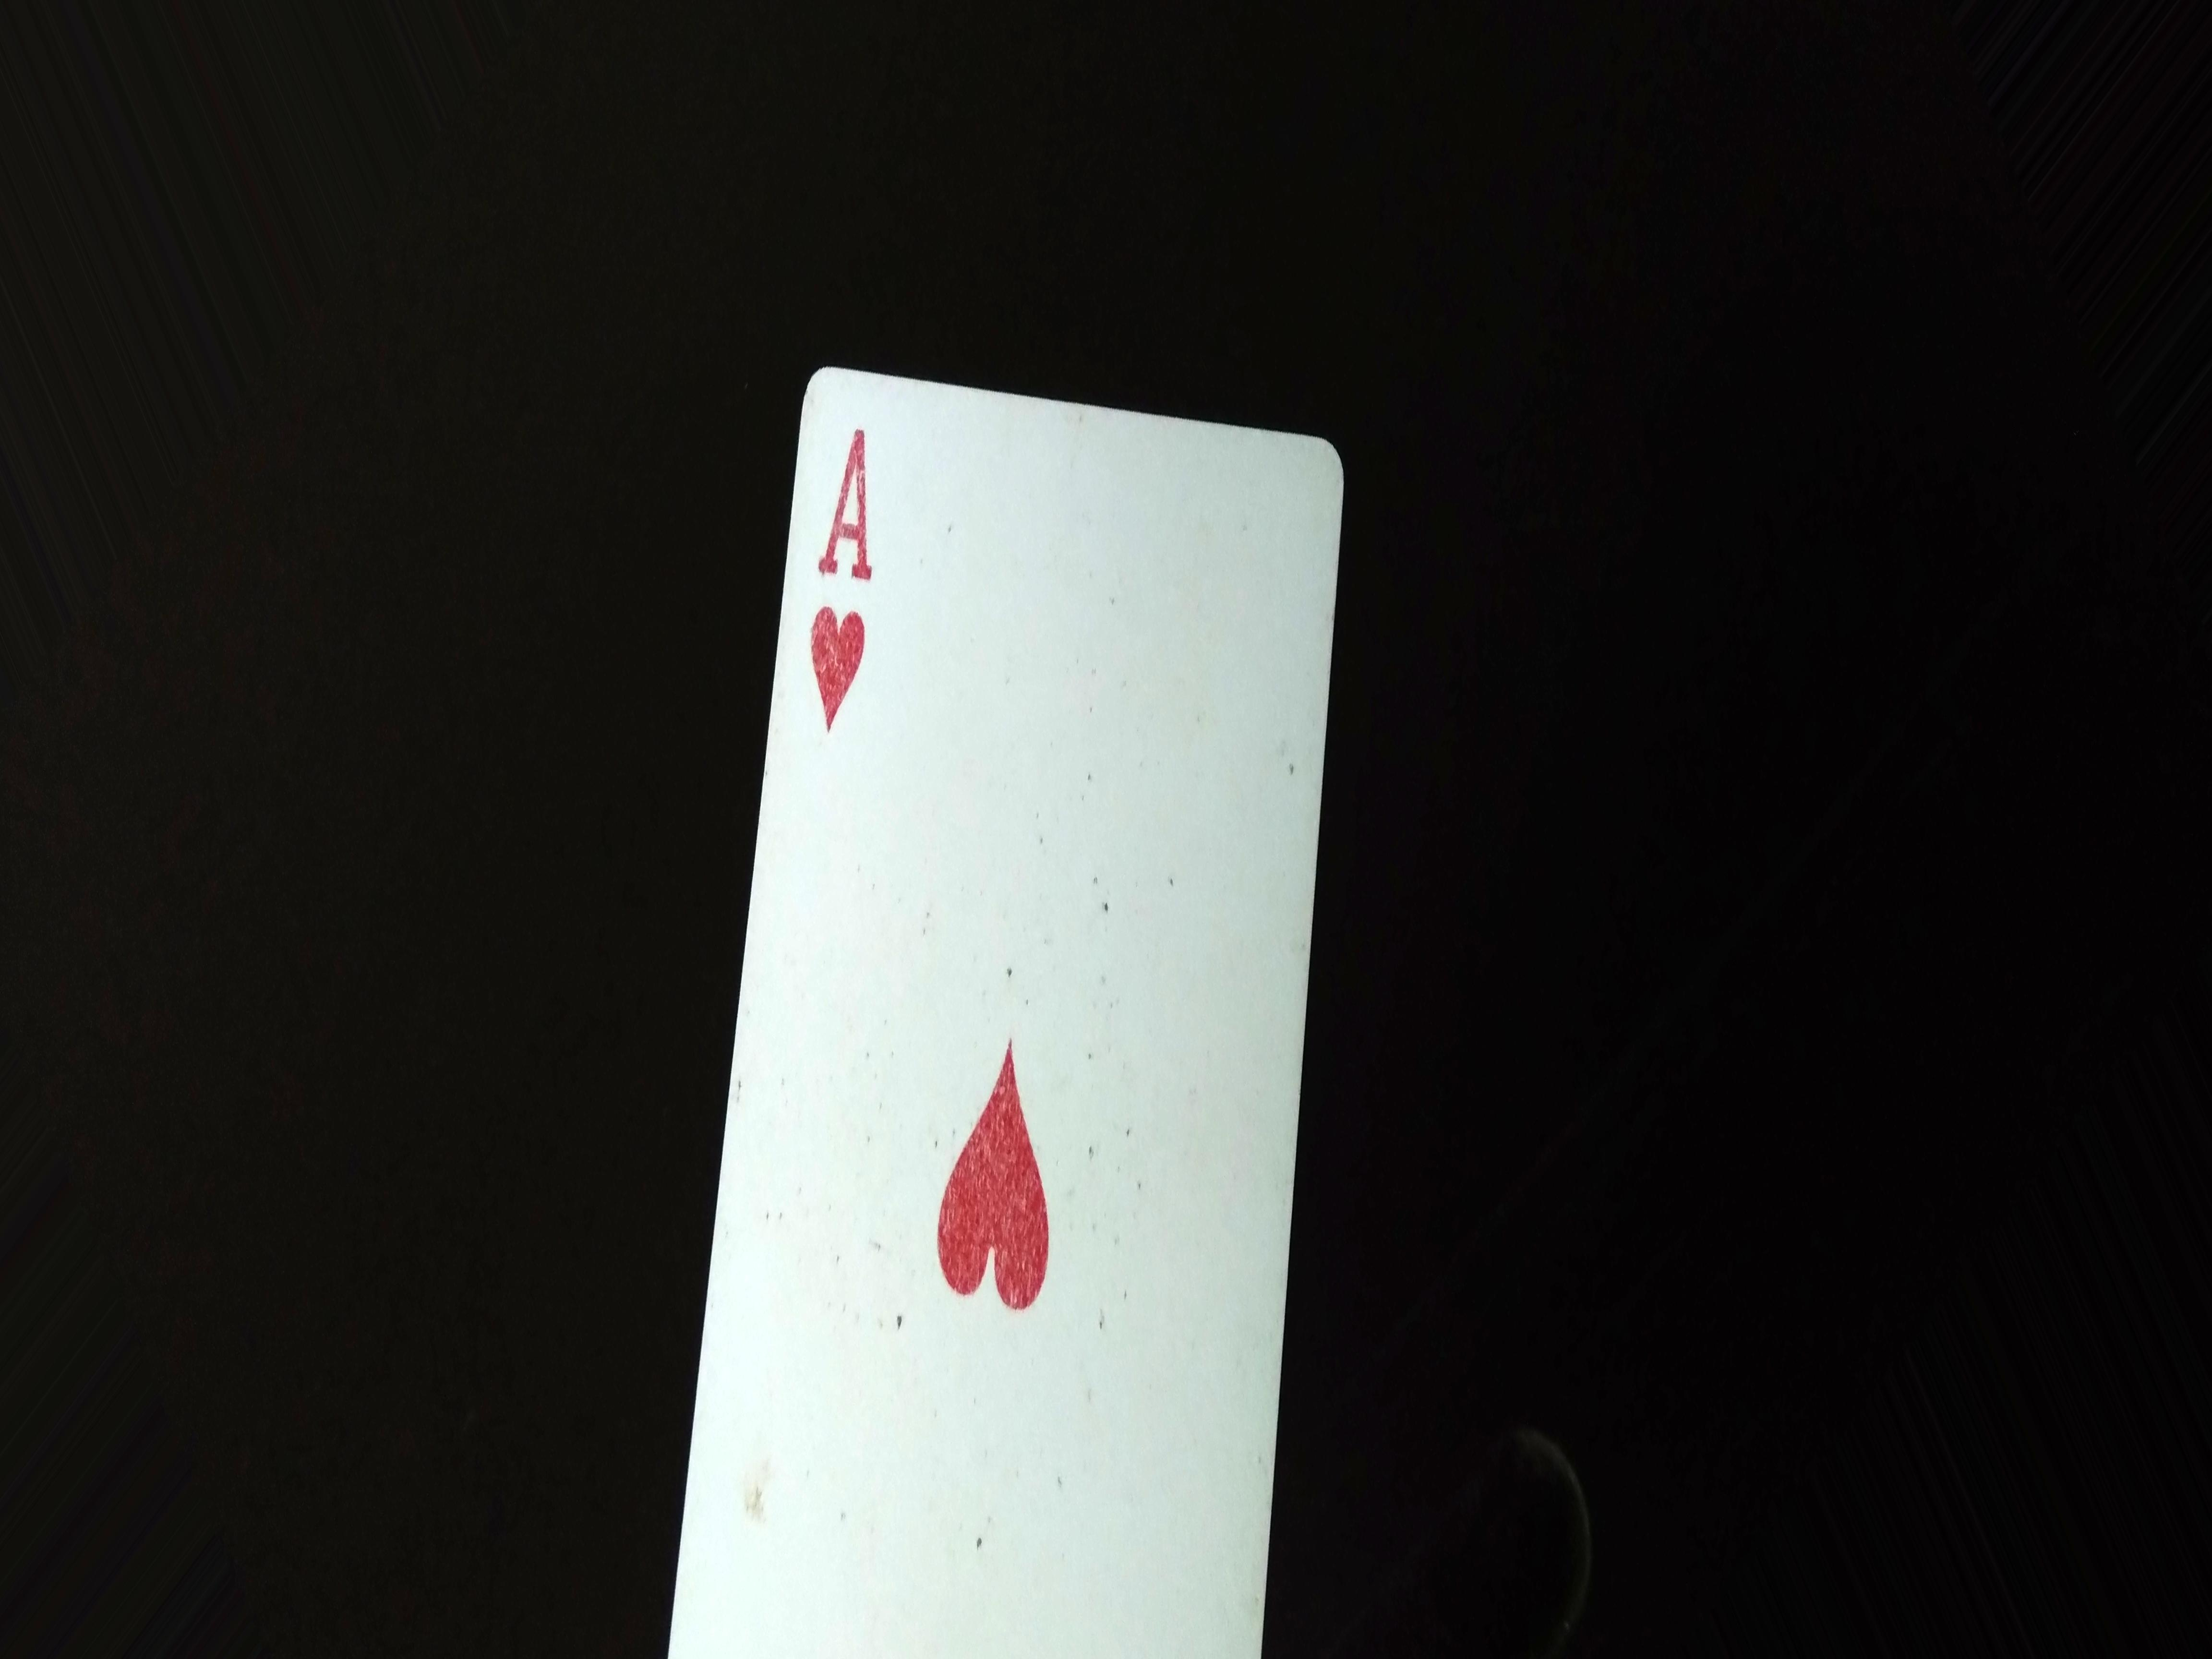AH: (805, 399, 894, 755)
